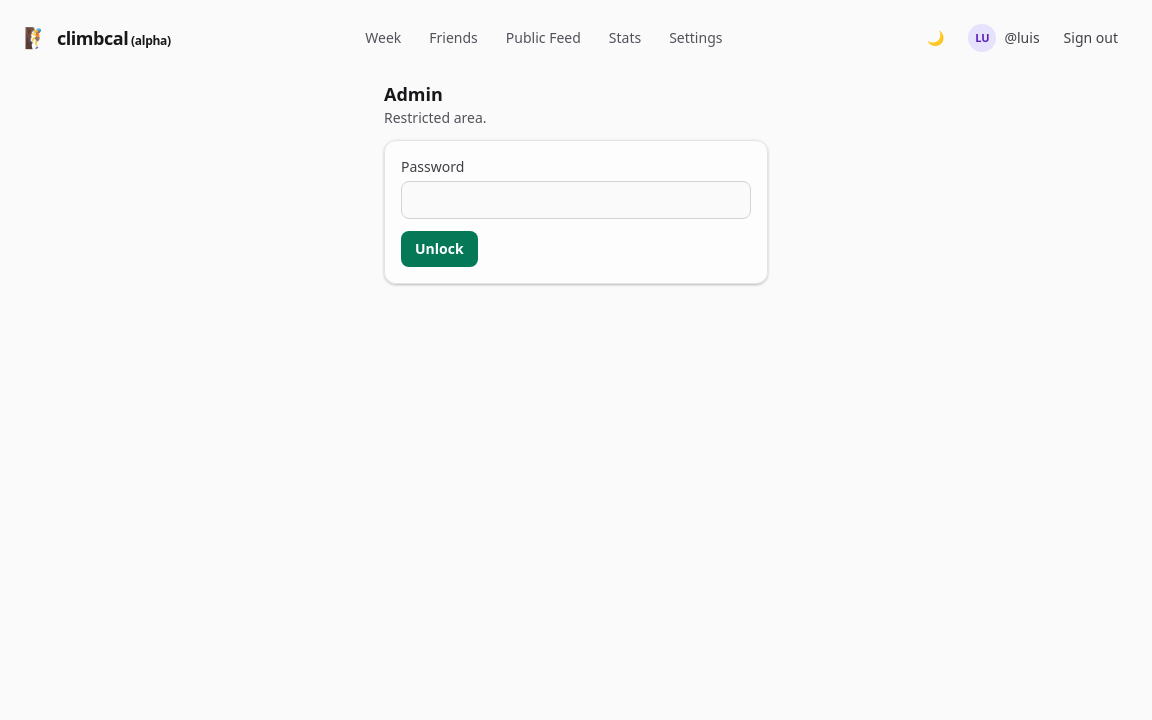
it: <Admin /> › lists every climb with the climber who logged it - private profiles too
Type "ilikepie" into the password field labelled "Password" at (576, 200), box [401,181,751,219]
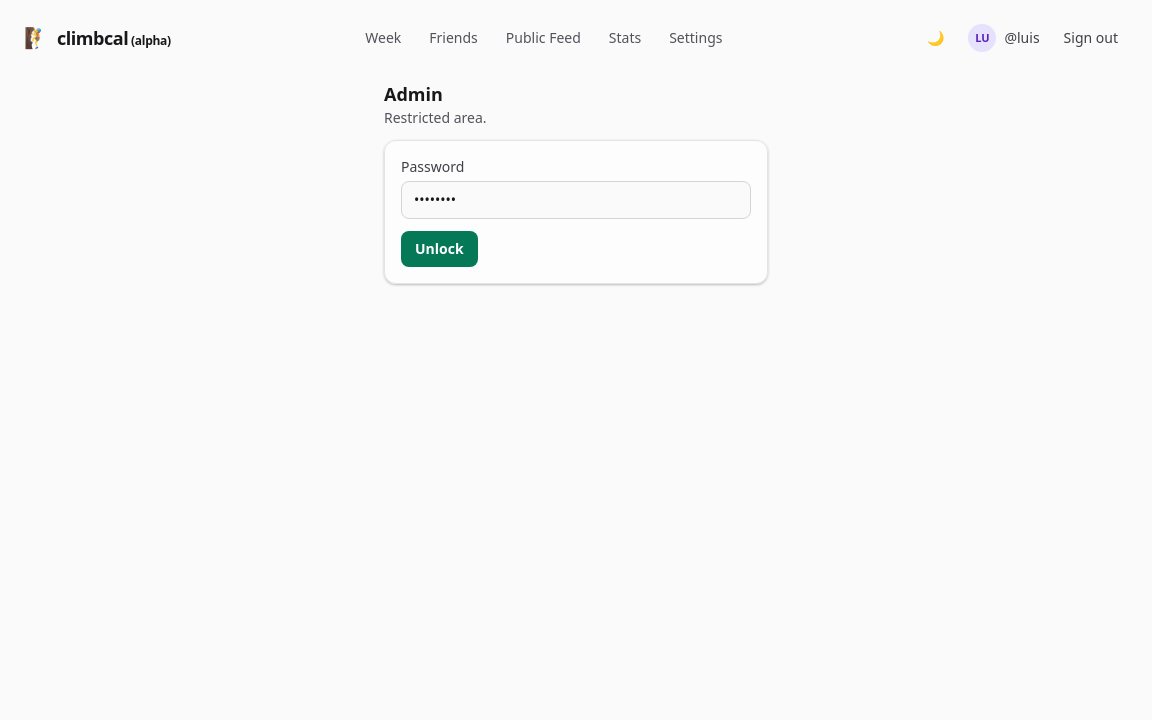
Click the button "Unlock" at (439, 249), box [401,231,478,267]
(page scrolled)
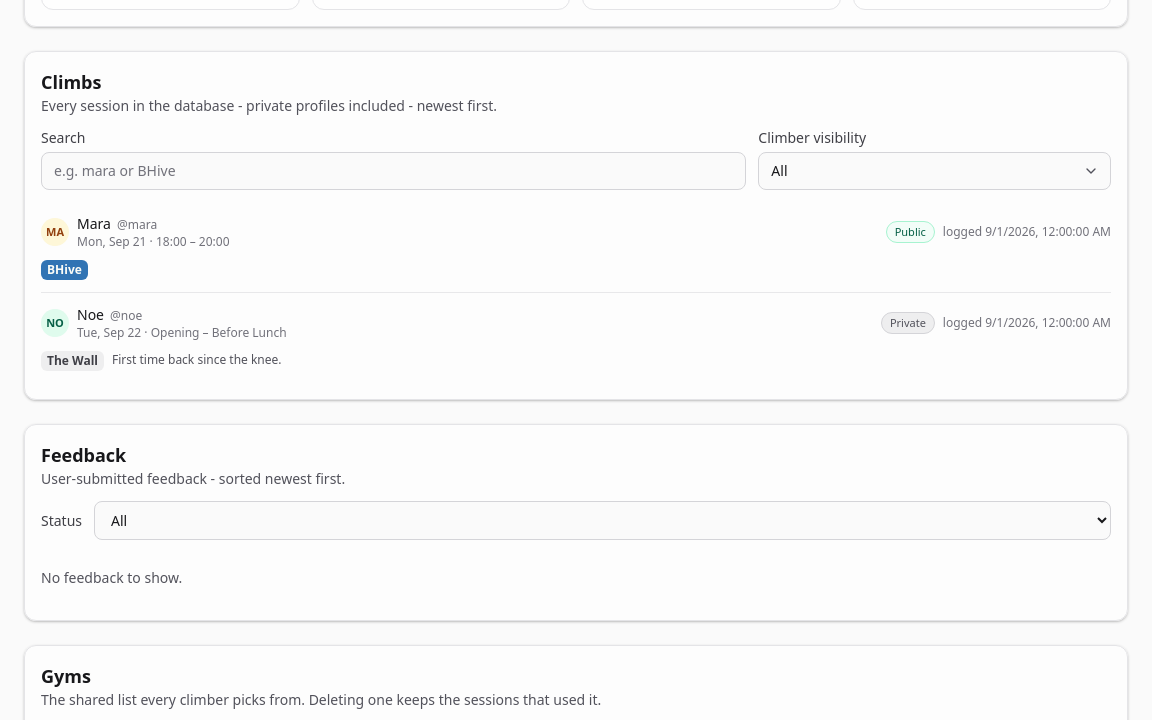
Expected: the heading "Climbs" is shown, [41,70,102,94]
Expected: the text "Mara" is shown, [77,214,111,233]
Expected: the text "@mara" is shown, [117,216,157,233]
